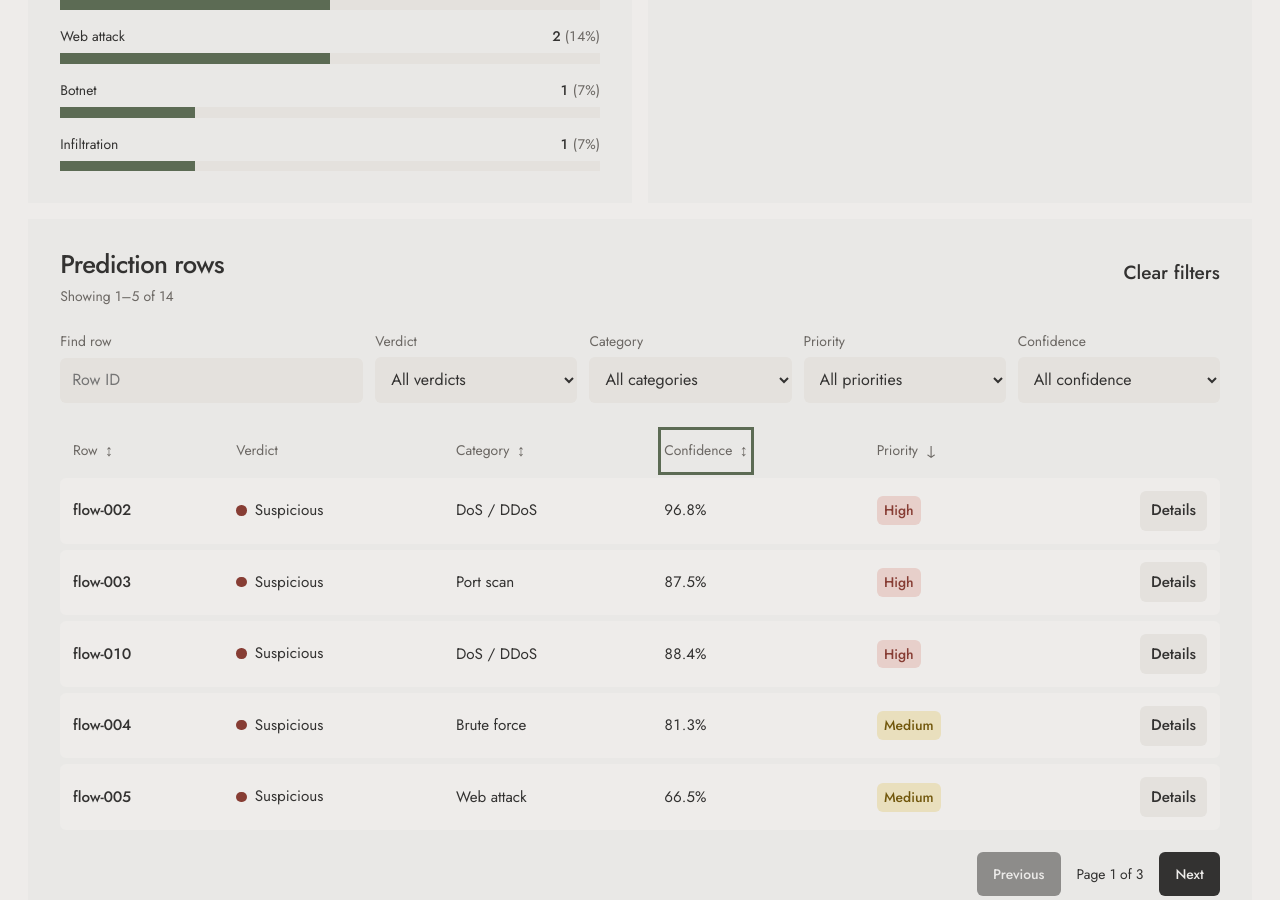
Scenario: results interactions › sorts, paginates, and keeps controls keyboard accessible
(page scrolled)
Press Enter
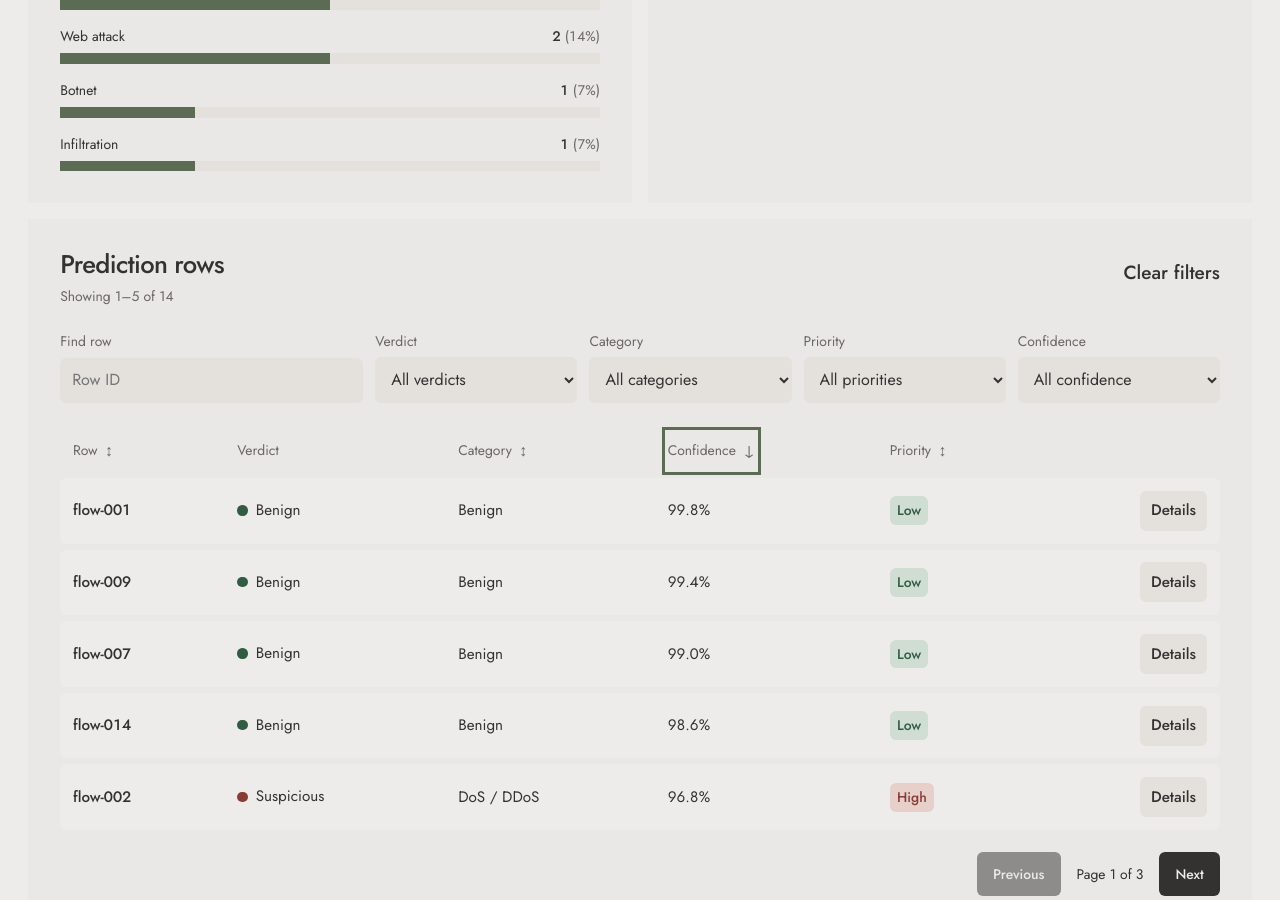
Click the button "Next" at (1190, 874), box x1=1160 y1=852 x2=1220 y2=896
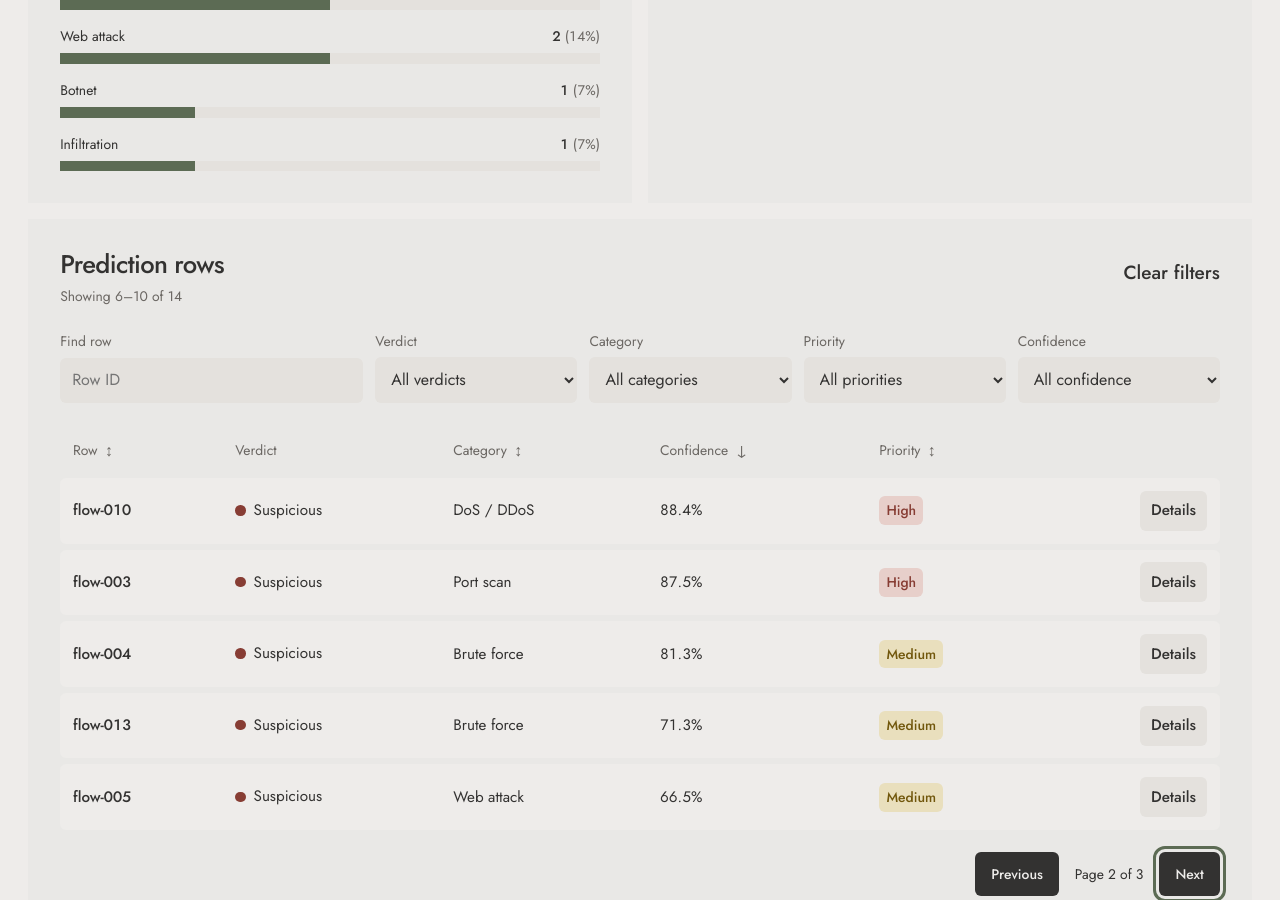
Check: the text "Page 2 of 3" is shown, box x1=1075 y1=864 x2=1144 y2=884
Check: the text "Showing 6–10 of 14" is shown, box x1=60 y1=286 x2=182 y2=306
